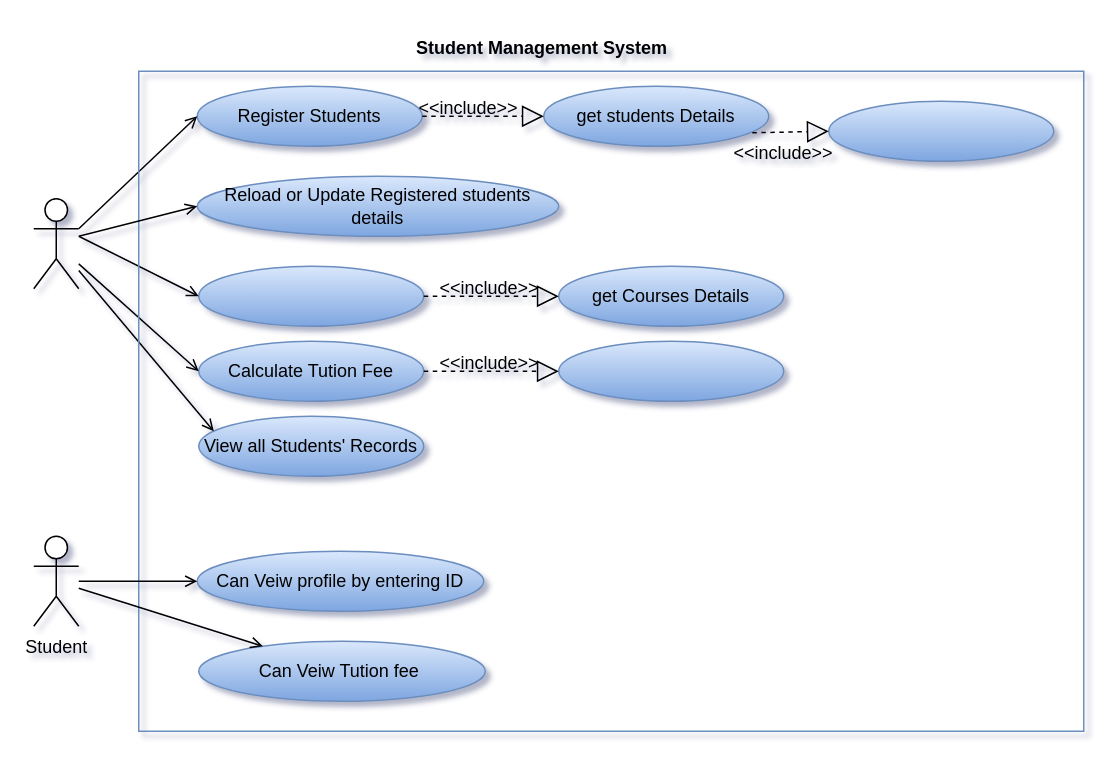
Some shapes in this 1119 by 767 pixel diagram are drawn without their labels. Here are the shapes that lost their labels. From the top down, the centre of each, then its label:
point (940, 130): Check valid Email
point (55, 243): Admin
point (310, 295): Register Courses
point (670, 370): Check valid Course Fee
